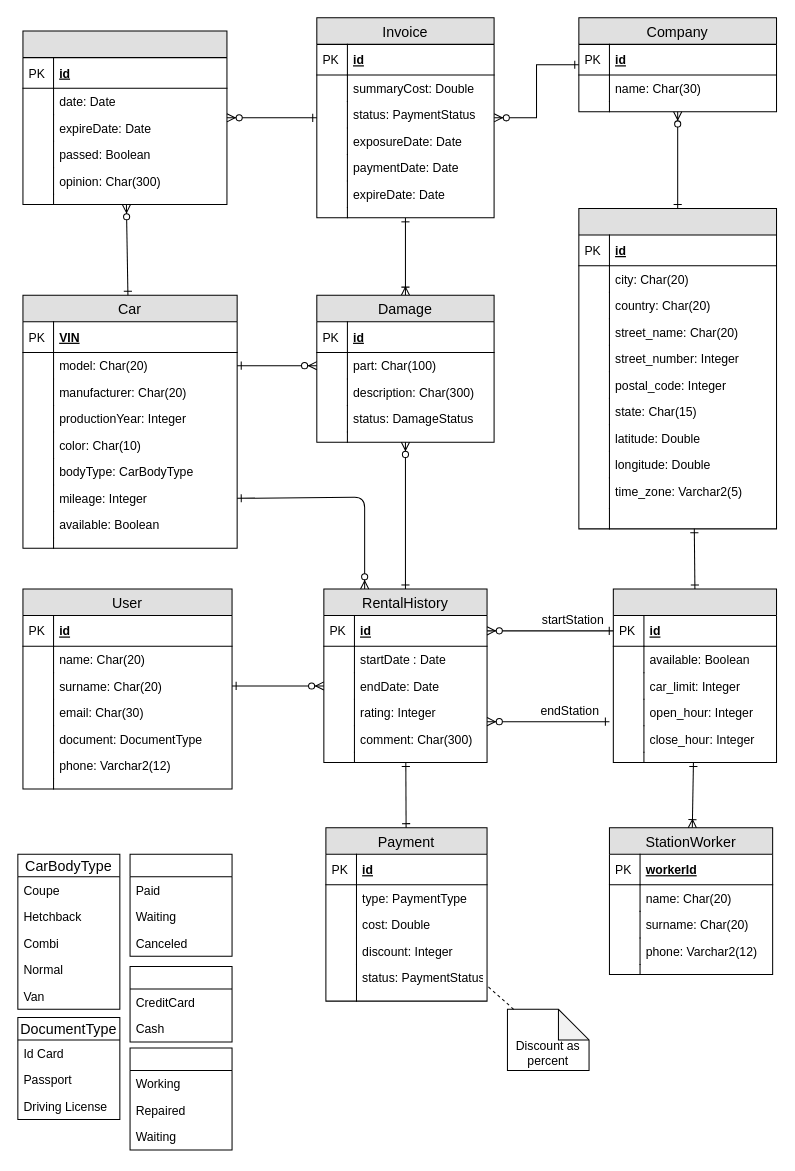
Image size: 795x1171. Some labels were removed from this diagram. Here are the shapes that lost their labels. From the top down, the box of each, then its label:
(22, 30, 227, 205): Inspection
(578, 208, 777, 529): Location
(612, 588, 777, 762): CarStation
(129, 853, 232, 956): PaymentStatus
(129, 965, 232, 1042): PaymentType
(129, 1047, 232, 1150): DamageStatus
